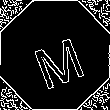M_N: (25, 23, 85, 87)
